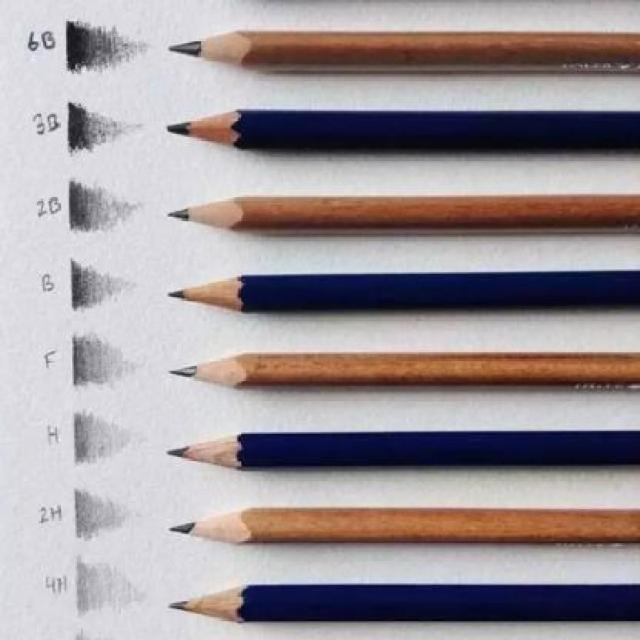pencil: (160, 346, 640, 397), (164, 424, 638, 474), (161, 266, 640, 315), (164, 28, 640, 74), (162, 580, 638, 626), (163, 106, 640, 151), (163, 189, 640, 234), (164, 504, 638, 548)
